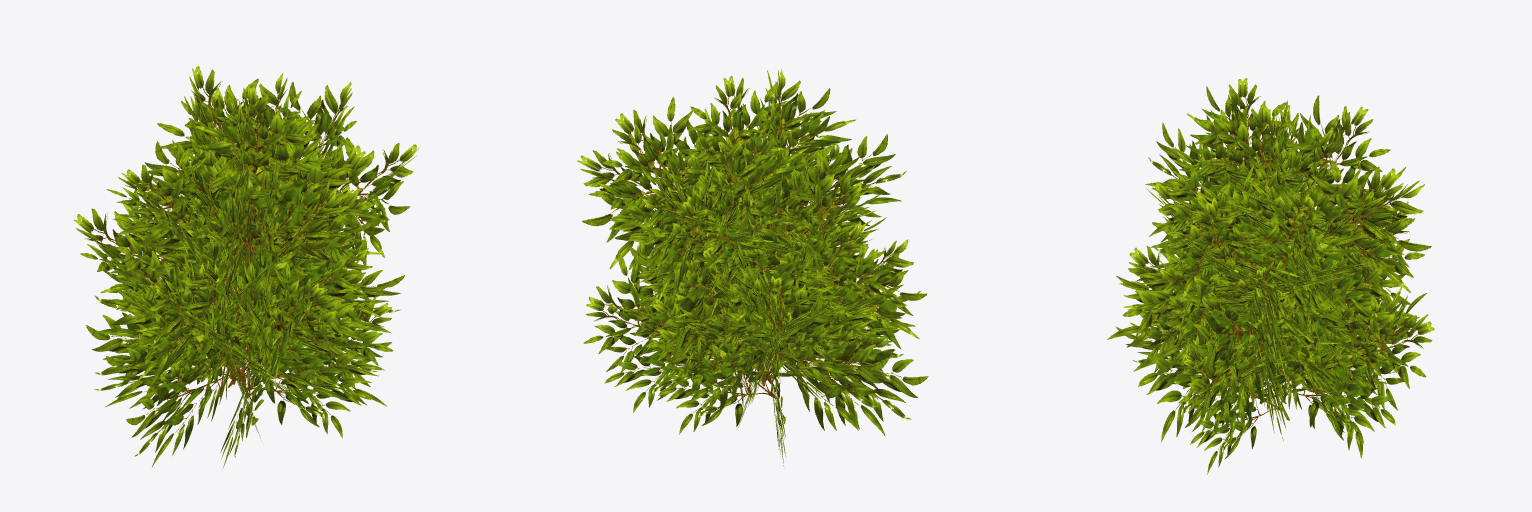
Rendered from Fiscus01.DAE.
3 renders of one model, left to right at view 1: azimuth 30°, elevation 25°; view 2: azimuth 150°, elevation 25°; view 3: azimuth 270°, elevation 25°, orthographic. The views are drawn at different scales.
Visible parts, largest first — view 1: Fiscus128; view 2: Fiscus128; view 3: Fiscus128.
Part boxes in pixels (x1=…): Fiscus128: x1=74, y1=66, x2=419, y2=469; Fiscus128: x1=577, y1=69, x2=928, y2=468; Fiscus128: x1=1107, y1=78, x2=1434, y2=474.
Bounding box in the file's own units: 18.62 × 17.26 × 16.64.
